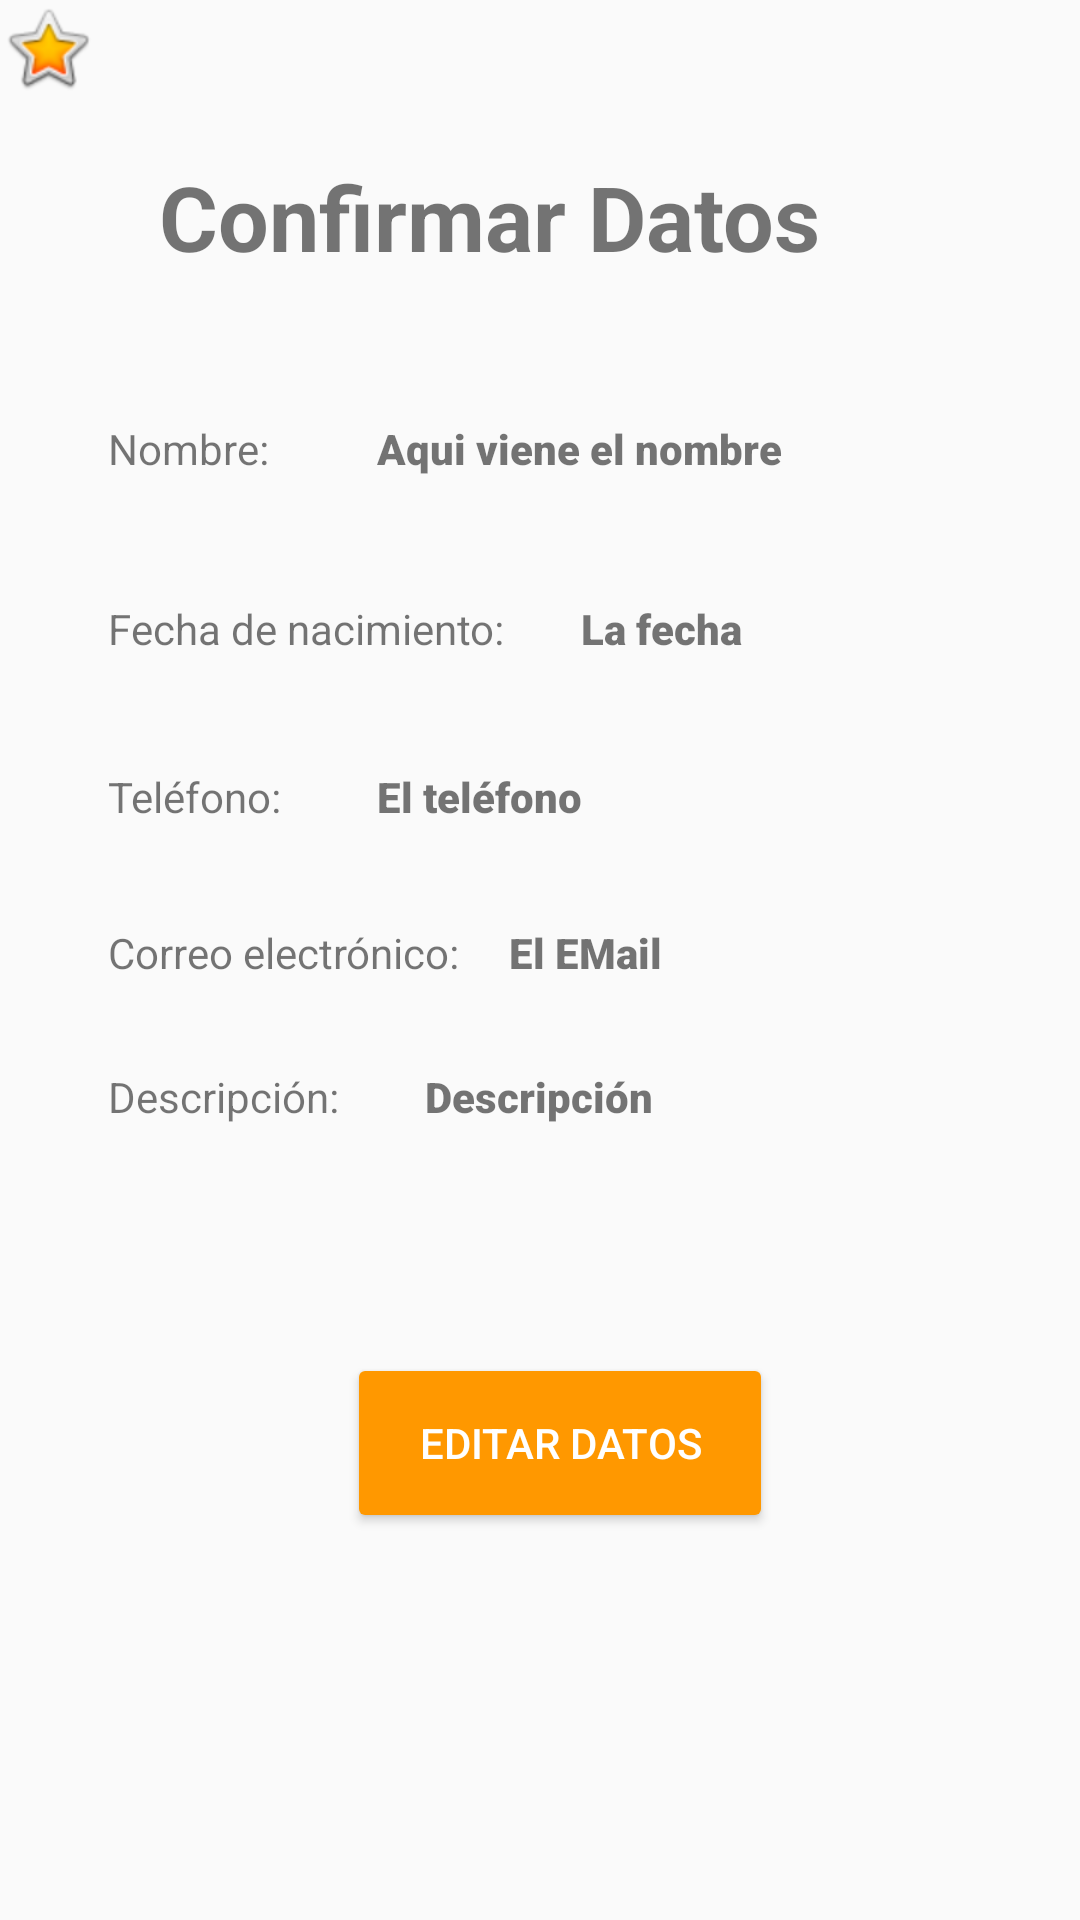

Where icons sit on this 1080x1920 app screen, as (x1, y1, x2, y2):
star on: (9, 10, 89, 88)
